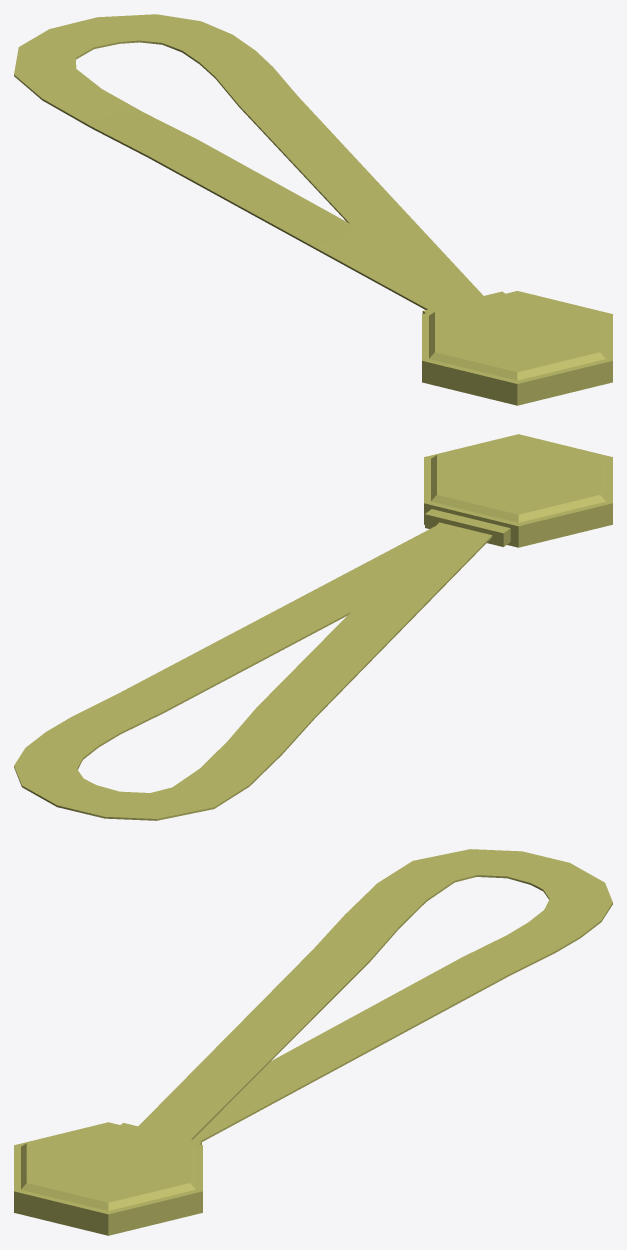
Rendered from memal2_LP.fbx.
3 views of the same model, one above another, from view 1: azimuth 30°, elevation 25°; view 2: azimuth 150°, elevation 25°; view 3: azimuth 330°, elevation 25° (orthographic).
Parts seen in each view (by area): view 1: medal2_1_LP, medal2_2_LP; view 2: medal2_1_LP, medal2_2_LP; view 3: medal2_1_LP, medal2_2_LP.
Boxes of the visible parts, x1,y1,x2,y2 form: medal2_1_LP: (14,14,483,309); medal2_2_LP: (422,291,612,405); medal2_1_LP: (14,522,492,820); medal2_2_LP: (424,434,612,547); medal2_1_LP: (138,849,612,1141); medal2_2_LP: (14,1122,202,1235).
Bounding box in the file's own units: 13.39 × 1.66 × 54.44.
